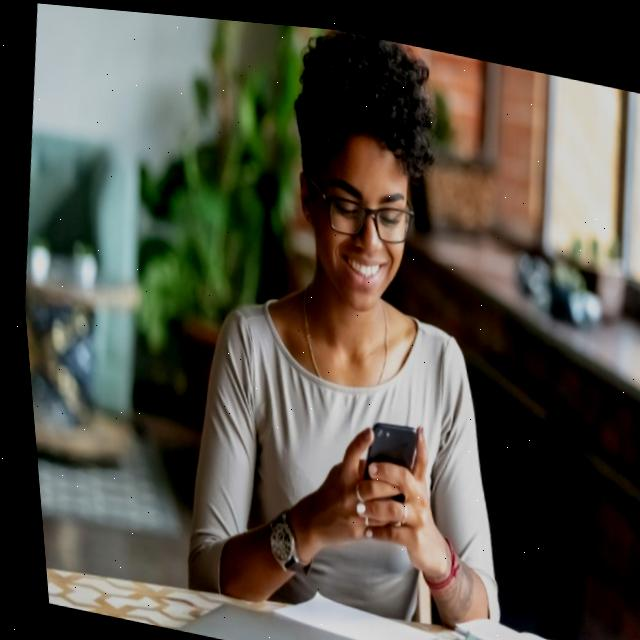smartphone-person: (133, 9, 583, 640)
